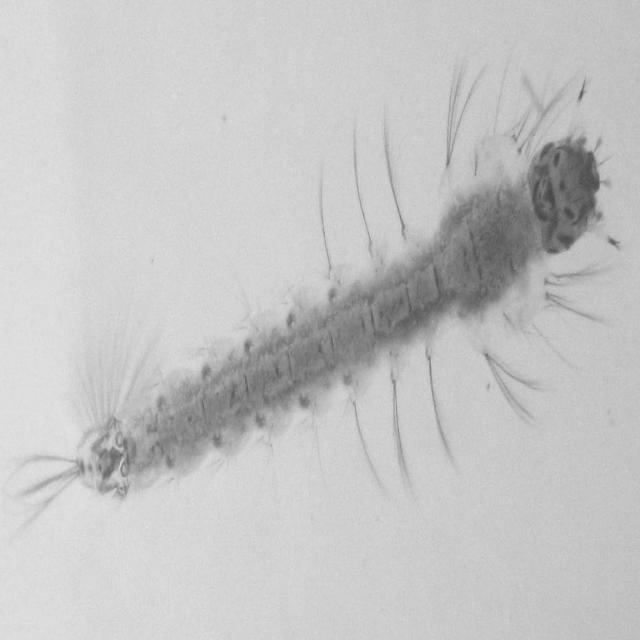larvas: (80, 107, 587, 495)
